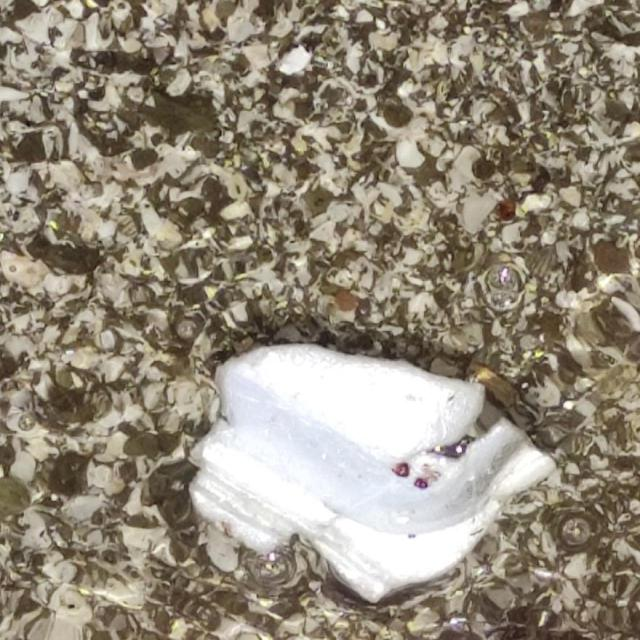styrofoam_waste: (187, 340, 555, 602)
